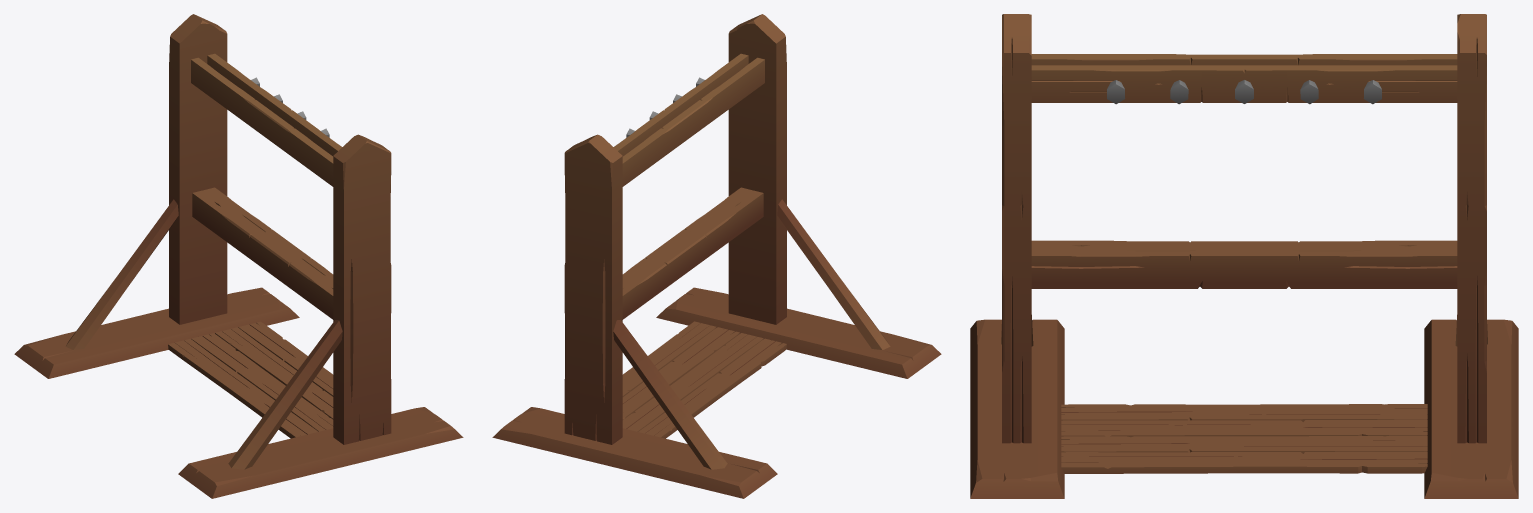
File: obj_stand.001.fbx
3 renders of one model, left to right at view 1: azimuth 30°, elevation 25°; view 2: azimuth 150°, elevation 25°; view 3: azimuth 270°, elevation 25°, orthographic. The views are drawn at different scales.
Visible parts, largest first — view 1: Cube.036; view 2: Cube.036; view 3: Cube.036.
Part boxes in pixels (<box>): Cube.036: <box>14,14,463,498</box>; Cube.036: <box>492,14,941,498</box>; Cube.036: <box>970,14,1518,498</box>.
Bounding box in the file's own units: 853 × 1000 × 1162.
